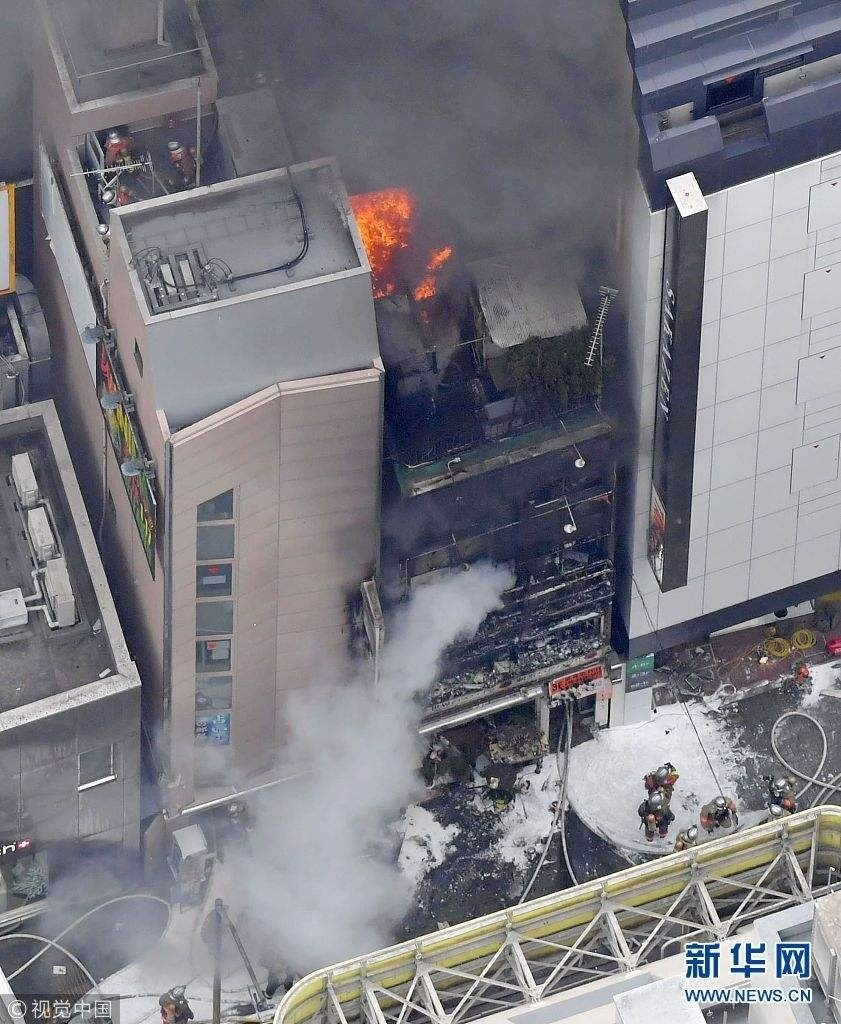fire: (347, 186, 453, 304)
